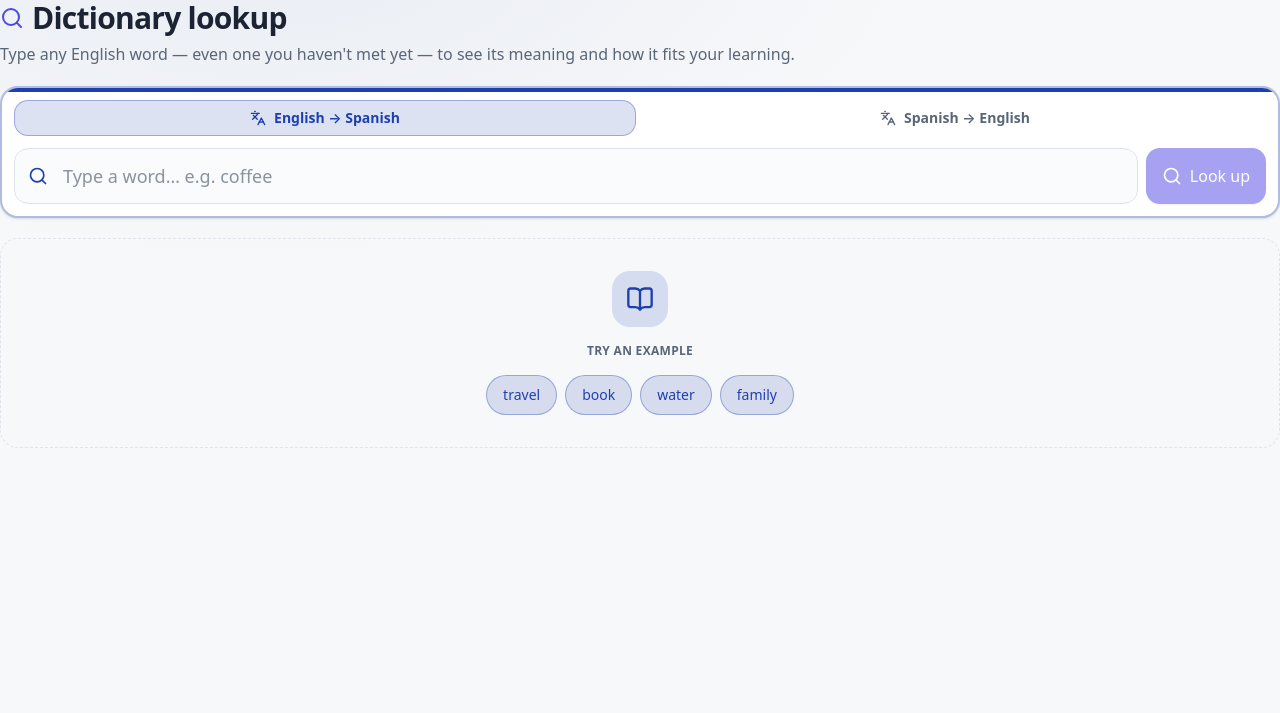
Test: DictionaryLookup (V3.30) › tras buscar, la X limpia la búsqueda y el resultado, y vuelven los ejemplos (V3.80.1)
Type "coffee" into the field named "Search the dictionary" at point(576, 176), box 14,148 -> 1138,204
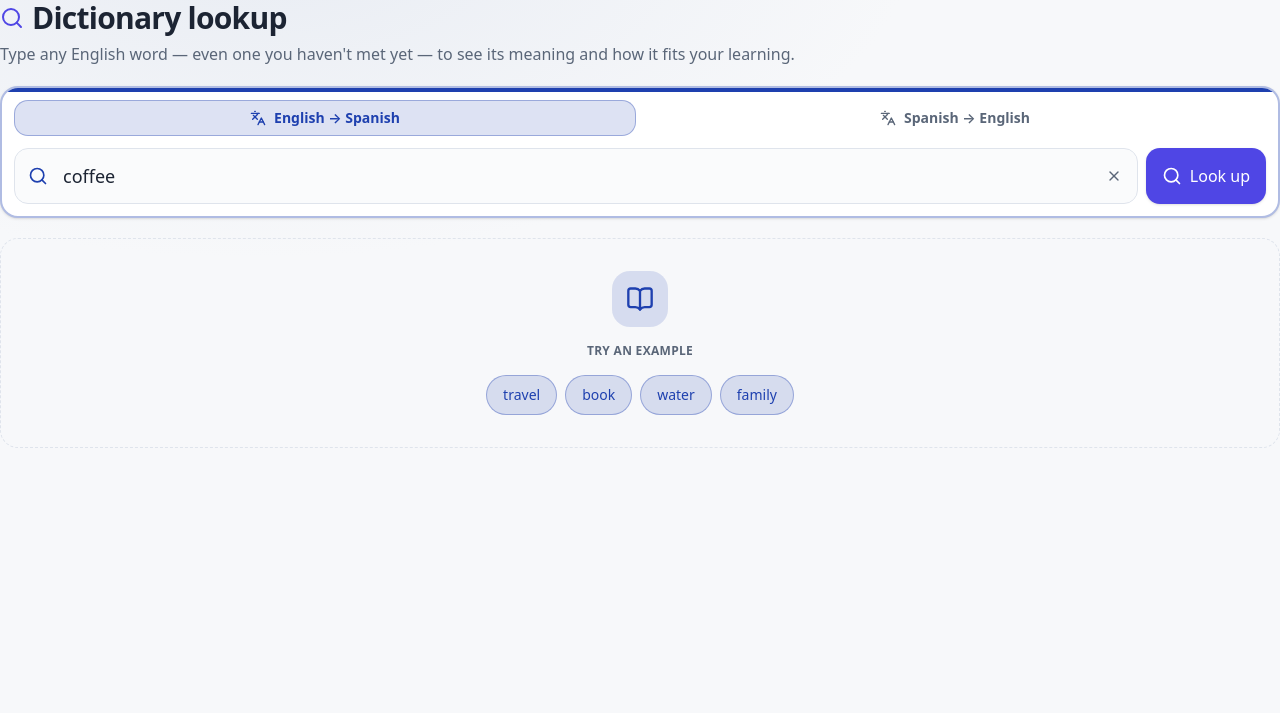
Click the button "Look up" at point(1206, 176), box 1146,148 -> 1266,204
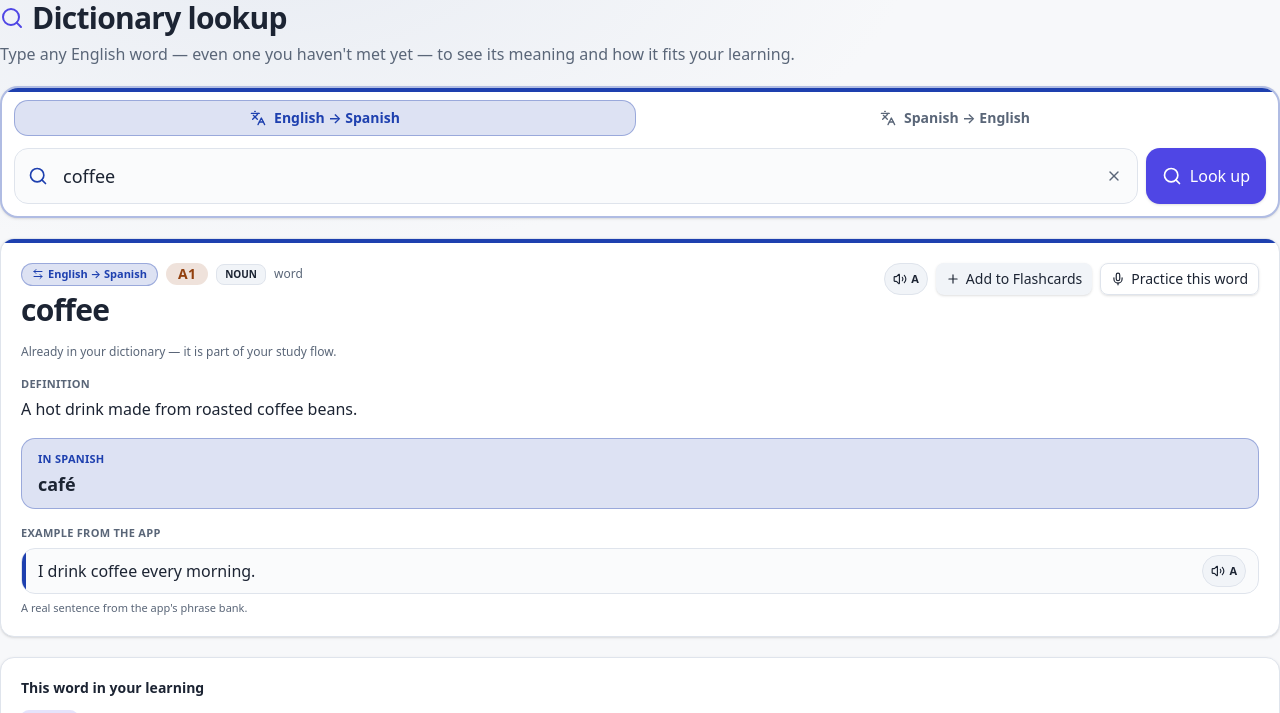
Result: the heading "coffee" is shown at 21,288 -> 109,330
Click the button named "Clear the search" at point(1114, 176), box 1098,160 -> 1130,192
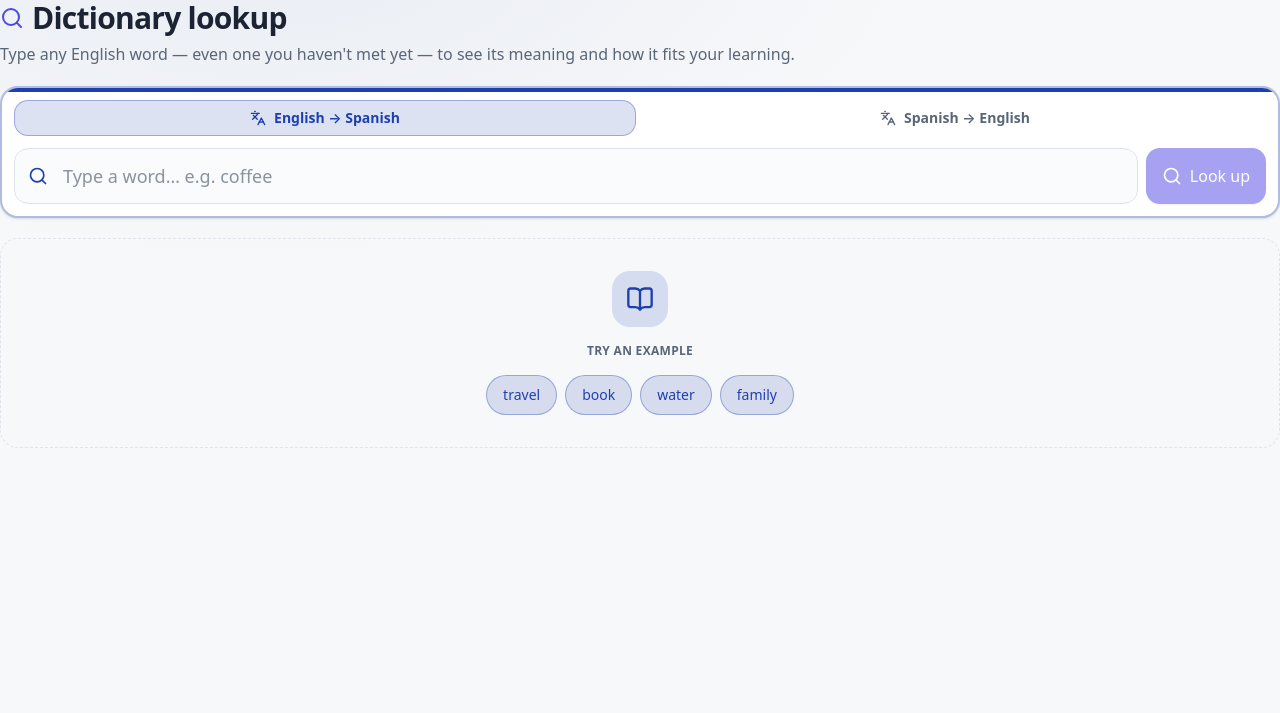
Result: the field named "Search the dictionary" is empty at 14,148 -> 1138,204
Result: the text "A hot drink made from roasted coffee beans." is gone
Result: the text "Try an example" is shown at 587,343 -> 693,359
